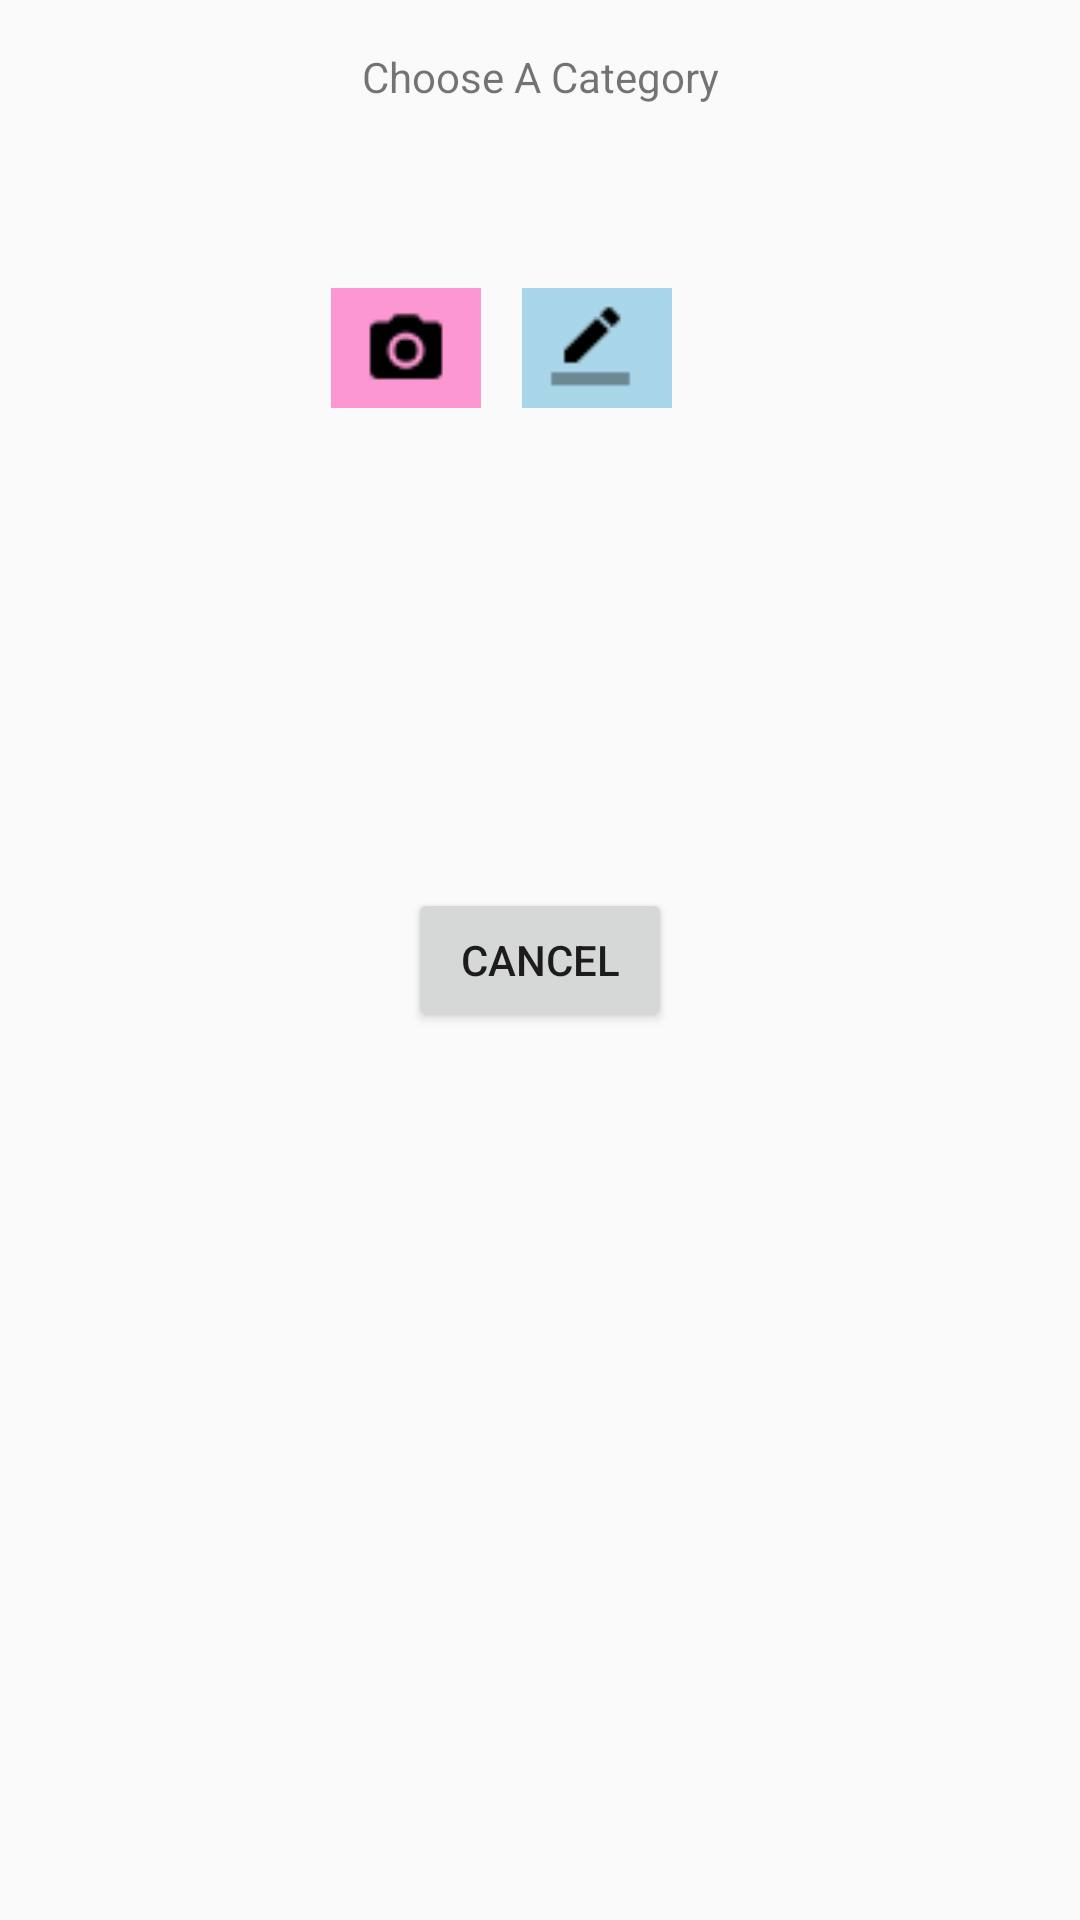

Screen size 1080×1920. Icon name, then its center in pixels as point (x, y):
cameraicon: point (406, 348)
penicon: point (597, 348)
